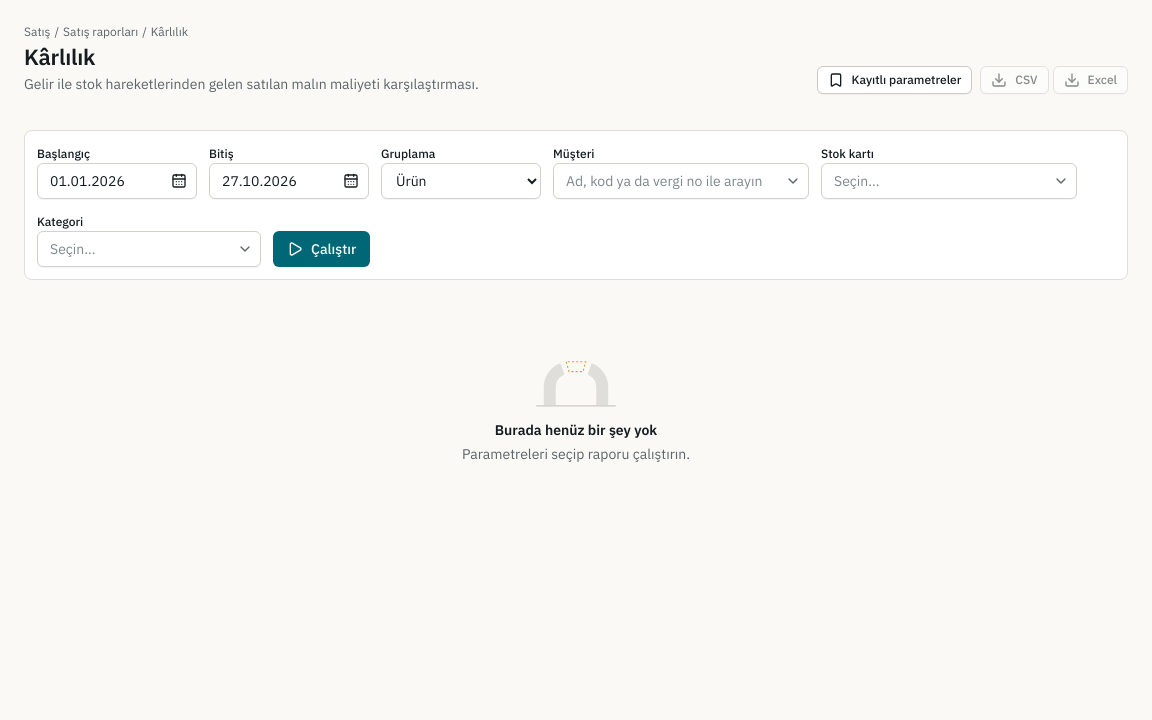
Scenario: sales reports › switches margin columns with group_by and names warehouses and categories
This screenshot has width=1152, height=720.
Click the button "Çalıştır" at (322, 249), box 273,231 -> 370,267
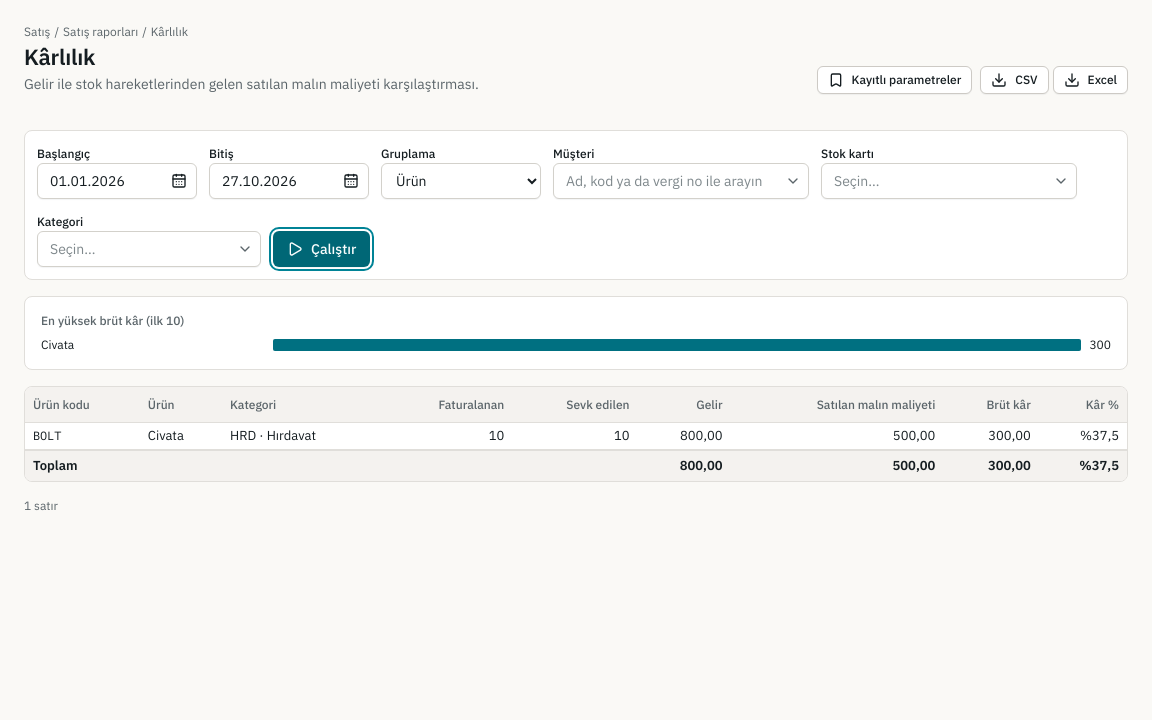
Expected: the text "Civata" is shown, 140,423 -> 222,450
Expected: the text "HRD · Hırdavat" is shown, 222,423 -> 383,450
Expected: the row with test id "report-totals" shows "300,00", 988,457 -> 1031,474
Select "Depo" in the dropdown labelled "Gruplama" at (461, 181), box 381,163 -> 541,199
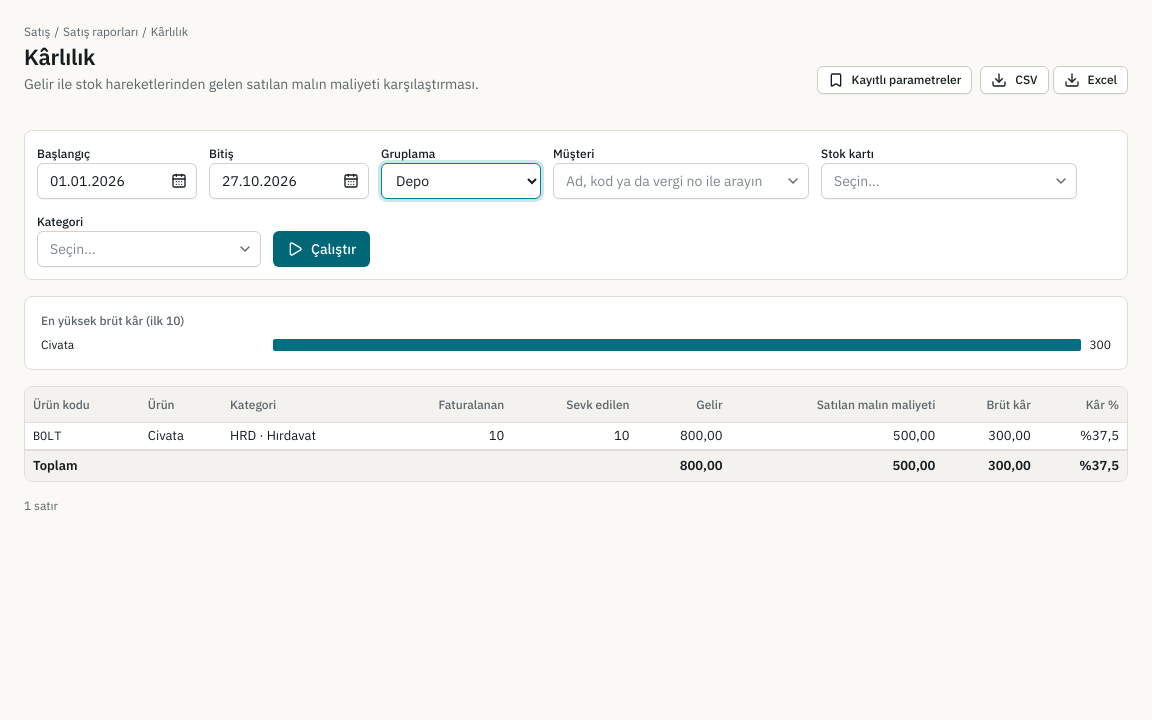
Click the button "Çalıştır" at (322, 249), box 273,231 -> 370,267
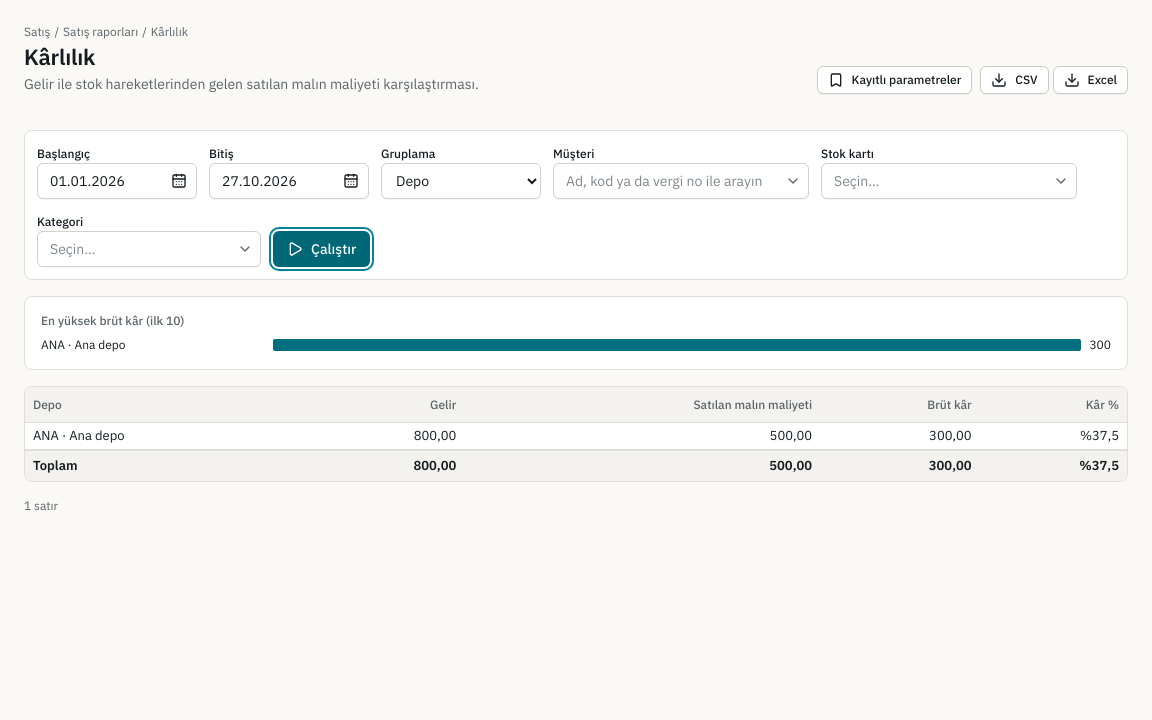
Expected: the text "ANA · Ana depo" is shown, 25,423 -> 309,450
Expected: the text "Civata" is gone
